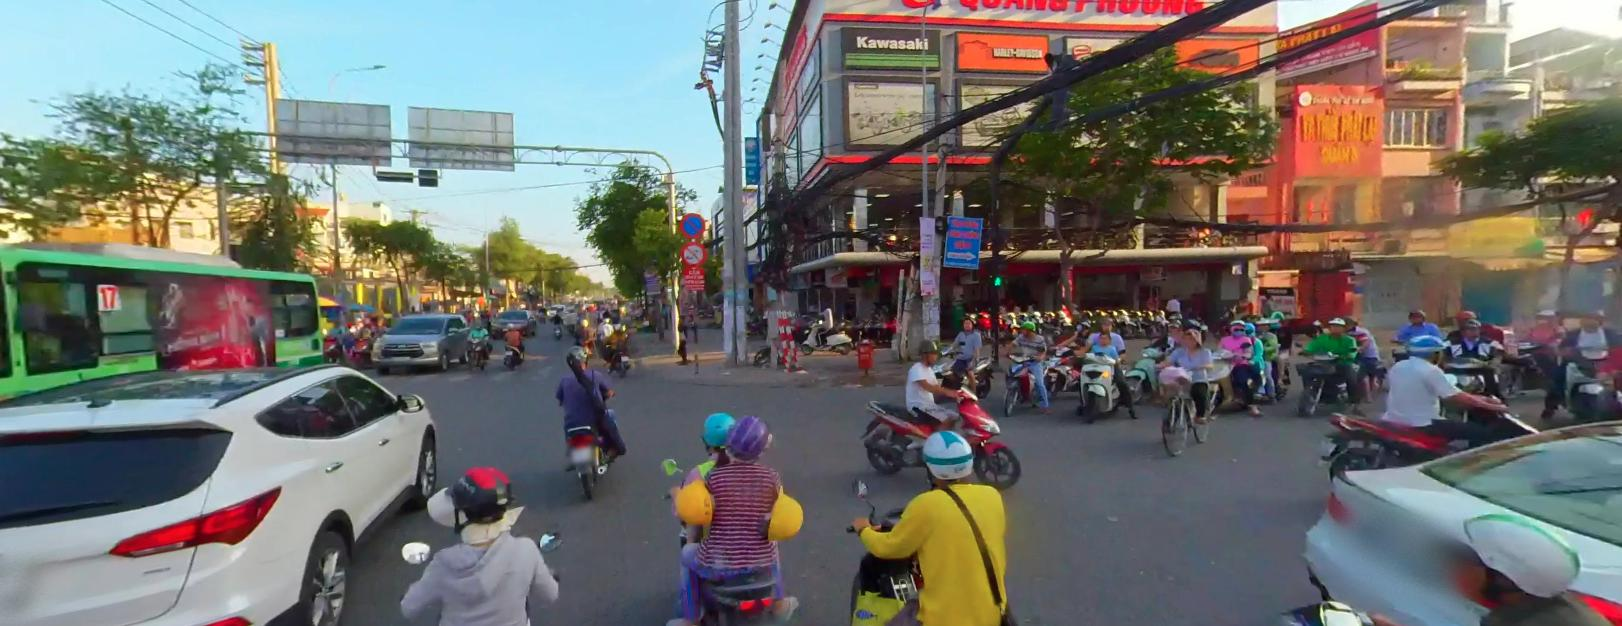Cam con lai: (680, 240, 705, 266)
Cam dung va do: (679, 211, 703, 236)
